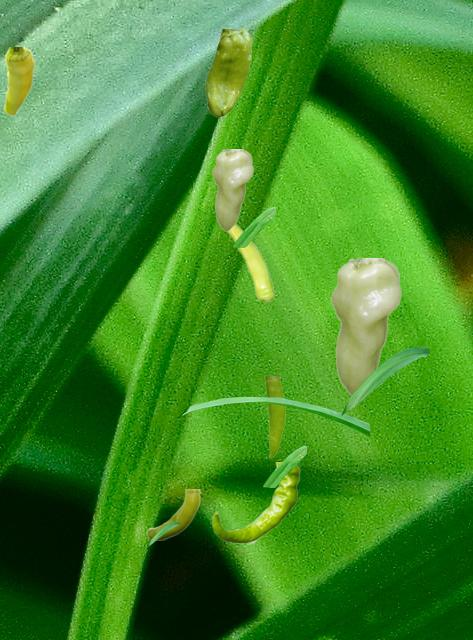green_chili: (330, 258, 400, 395), (212, 462, 299, 543), (205, 29, 250, 116), (226, 224, 273, 300), (211, 149, 252, 230), (146, 489, 200, 539), (3, 47, 34, 115), (264, 376, 284, 457)
